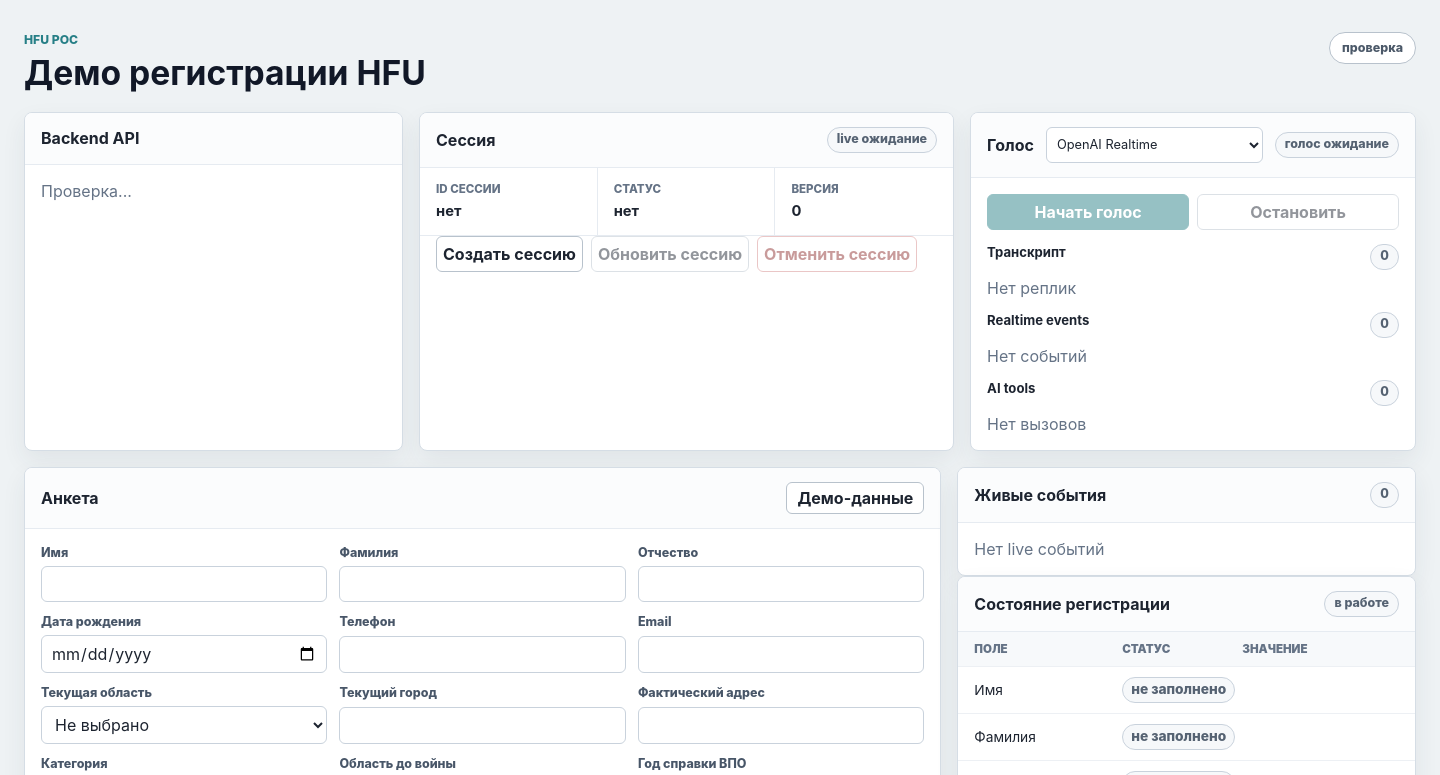
Test case: App › stops the active voice client
What coordinates should you click on to do the following:
click the button "Создать сессию"
I would click on:
 (509, 254)
Its box is top-left (436, 236), bottom-right (583, 272).
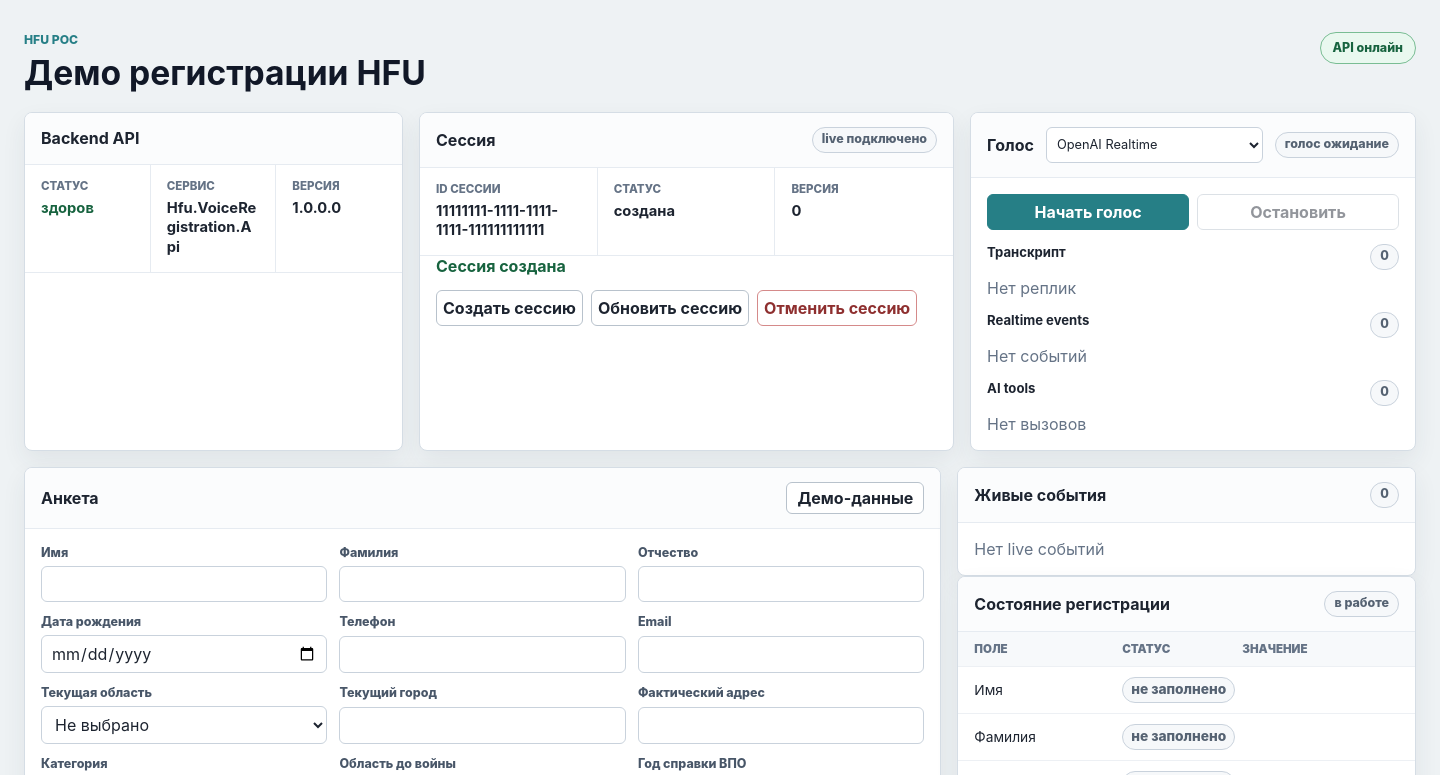
expect the text "11111111-1111-1111-1111-111111111111" is shown: met, box top-left (436, 202), bottom-right (558, 240)
What coordinates should you click on to do the following:
click the button "Начать голос"
I would click on:
 (1088, 212)
Its box is top-left (987, 194), bottom-right (1189, 230).
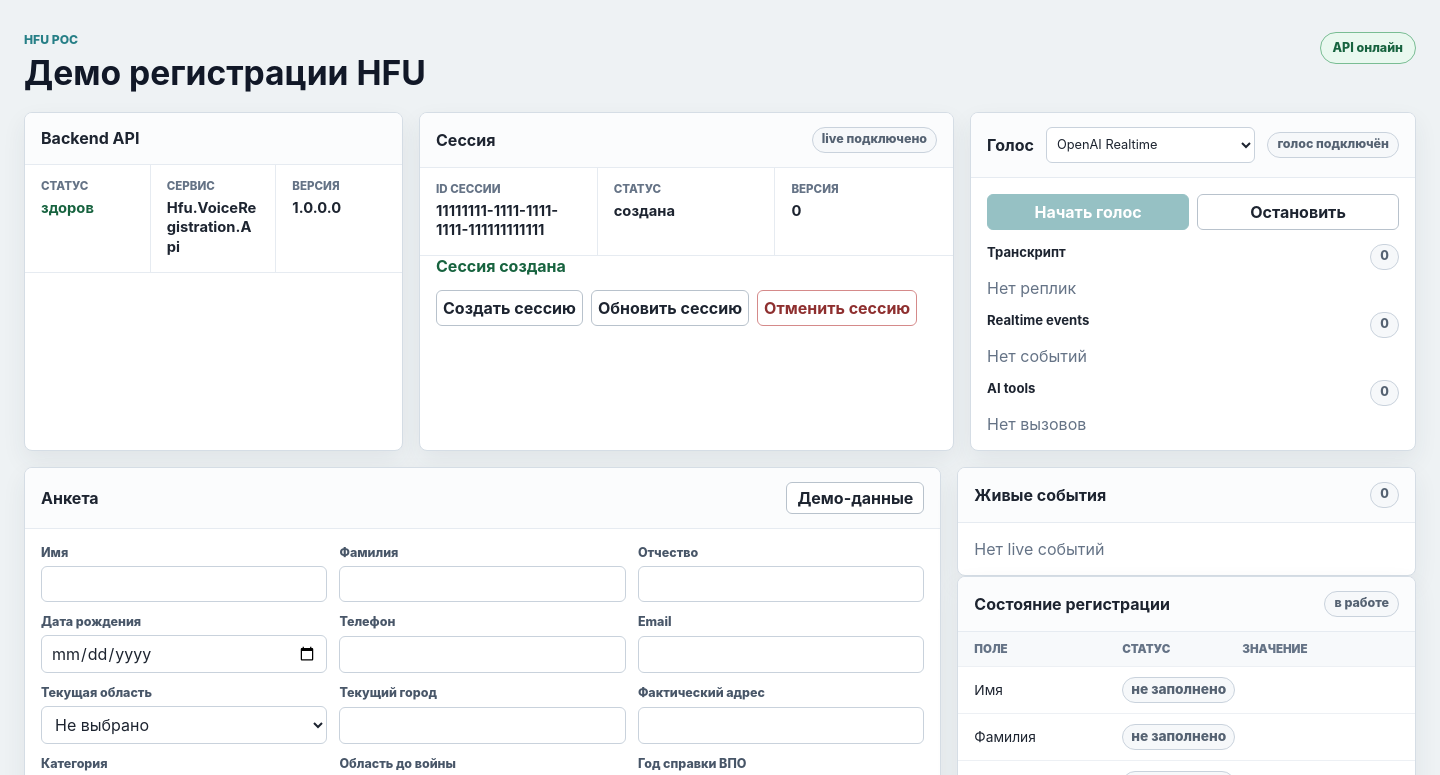
expect the text "голос подключён" is shown: met, box top-left (1267, 132), bottom-right (1399, 158)
What coordinates should you click on to do the following:
click the button "Остановить"
I would click on:
 (1298, 212)
Its box is top-left (1197, 194), bottom-right (1399, 230).
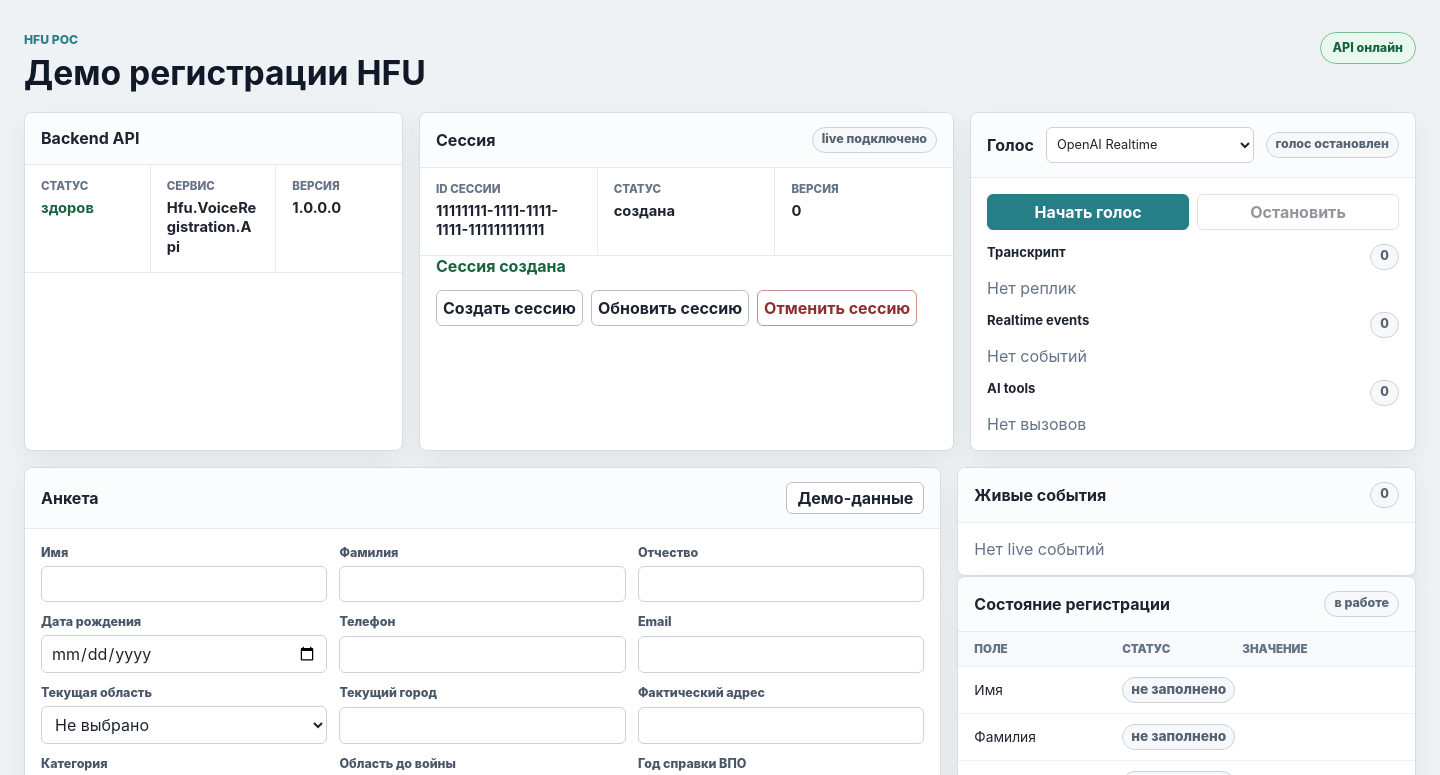
expect the text "голос остановлен" is shown: met, box top-left (1266, 132), bottom-right (1399, 158)
